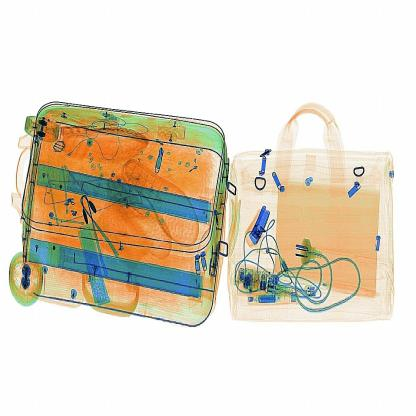pliers: (244, 204, 277, 258)
